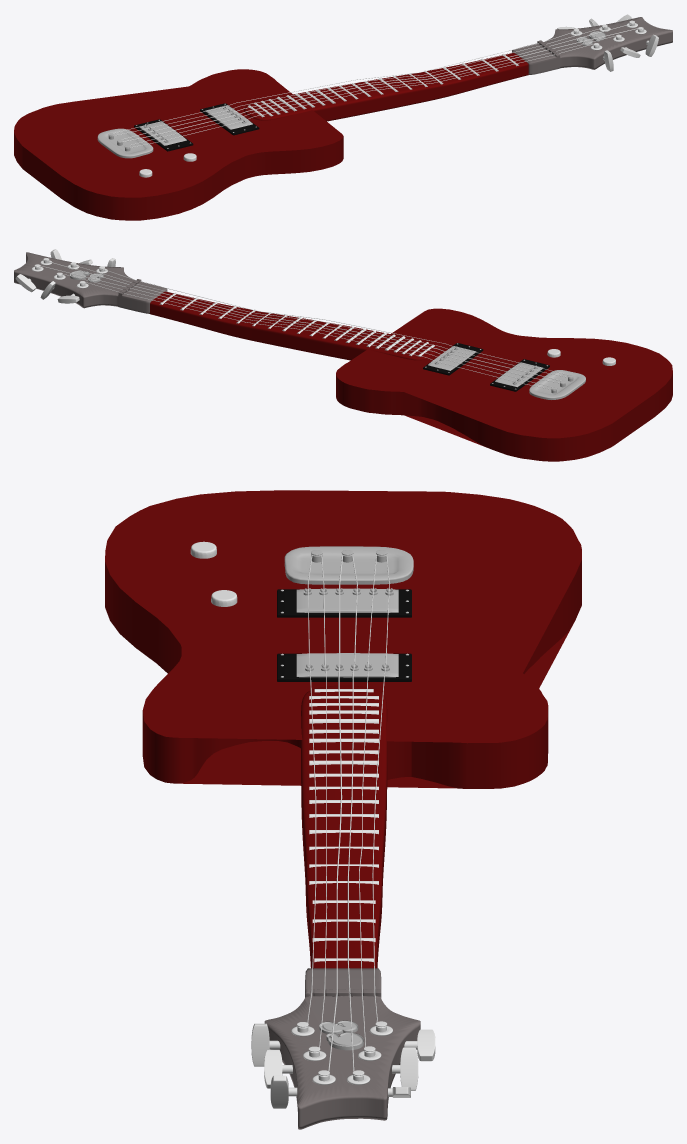
Rendered from Guitar.fbx.
The picture shows the model from 3 angles, top to bottom: view 1: azimuth 30°, elevation 25°; view 2: azimuth 150°, elevation 25°; view 3: azimuth 270°, elevation 25°; orthographic projection. The views are drawn at different scales.
Visible parts, largest first — view 1: BigBody, MiddleBody, Smallbody, pCube12, pCylinder29, roap, pCube11, pCube10, pCylinder30, pCylinder31, pCylinder33, pCylinder32 (+2 smaller); view 2: BigBody, MiddleBody, Smallbody, pCube12, pCylinder29, roap, pCube10, pCube11, pCylinder31, pCylinder30, pCylinder33, pCylinder32 (+2 smaller); view 3: BigBody, MiddleBody, Smallbody, pCube12, pCube10, pCube11, pCube9, pCube8, pCylinder29, roap.
Part boxes in pixels (left/top/right/bottom): BigBody: left=14, top=69, right=343, bottom=220; MiddleBody: left=244, top=53, right=528, bottom=121; Smallbody: left=512, top=17, right=672, bottom=74; pCube12: left=97, top=128, right=153, bottom=158; pCylinder29: left=121, top=28, right=637, bottom=142; roap: left=121, top=23, right=631, bottom=139; pCube11: left=139, top=121, right=186, bottom=145; pCube10: left=205, top=105, right=252, bottom=129; pCylinder30: left=129, top=36, right=615, bottom=145; pCylinder31: left=112, top=27, right=605, bottom=136; pCylinder33: left=129, top=44, right=593, bottom=147; pCylinder32: left=113, top=31, right=576, bottom=133; BigBody: left=336, top=308, right=672, bottom=461; MiddleBody: left=149, top=291, right=438, bottom=360; Smallbody: left=14, top=252, right=167, bottom=313; pCube12: left=529, top=370, right=585, bottom=399; pCylinder29: left=45, top=260, right=560, bottom=381; roap: left=41, top=266, right=560, bottom=383; pCube10: left=428, top=346, right=476, bottom=370; pCube11: left=495, top=362, right=542, bottom=387; pCylinder31: left=63, top=274, right=552, bottom=387; pCylinder30: left=72, top=265, right=568, bottom=377; pCylinder33: left=102, top=269, right=568, bottom=375; pCylinder32: left=86, top=282, right=552, bottom=389; BigBody: left=105, top=490, right=581, bottom=788; MiddleBody: left=301, top=685, right=387, bottom=968; Smallbody: left=264, top=968, right=420, bottom=1129; pCube12: left=284, top=546, right=413, bottom=584; pCube10: left=296, top=653, right=398, bottom=677; pCube11: left=296, top=588, right=398, bottom=612; pCube9: left=277, top=589, right=411, bottom=617; pCube8: left=277, top=653, right=411, bottom=681; pCylinder29: left=328, top=554, right=343, bottom=1071; roap: left=347, top=554, right=357, bottom=1071.
Bounding box in the file's own units: 9.39 × 0.4219 × 3.15.
